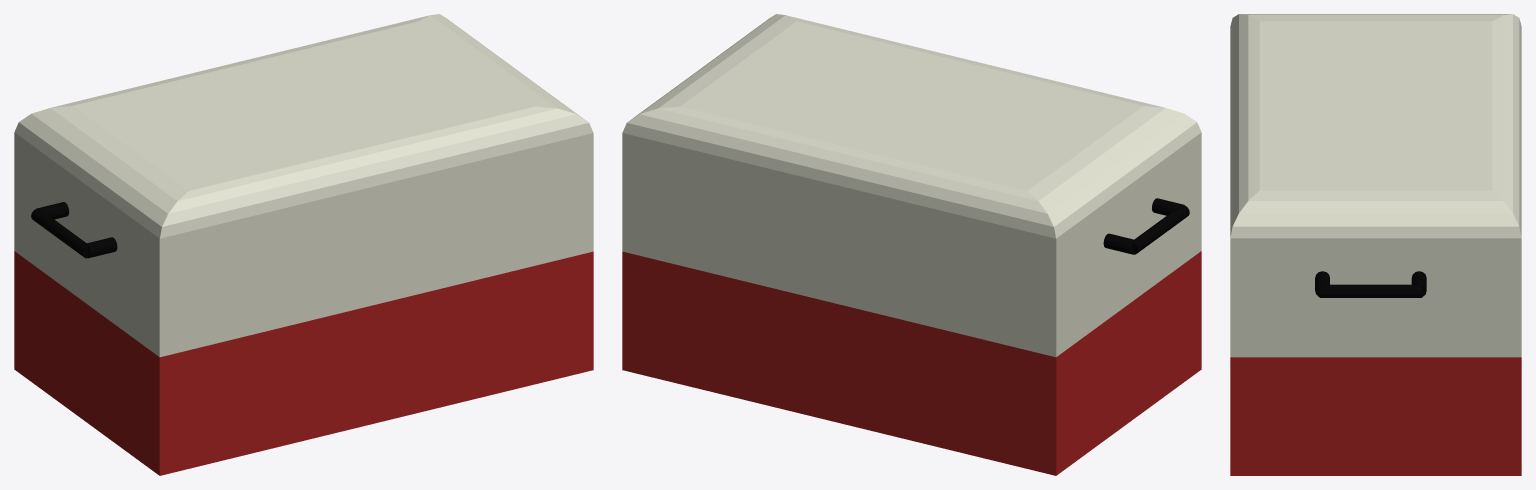
File: StoreArtifacts.fbx
3 renders of one model, left to right at view 1: azimuth 30°, elevation 25°; view 2: azimuth 150°, elevation 25°; view 3: azimuth 270°, elevation 25°, orthographic.
Parts seen in each view (by area): view 1: StoreArtifacts; view 2: StoreArtifacts; view 3: StoreArtifacts.
Part boxes in pixels (x1,y1,x2,y2): StoreArtifacts: (14, 14, 593, 475); StoreArtifacts: (622, 14, 1201, 475); StoreArtifacts: (1230, 14, 1521, 475).
Size of the model in its own units: 397 by 200 by 200.
